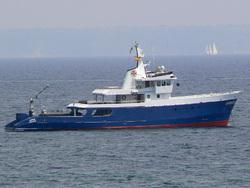yacht: (4, 37, 239, 134)
